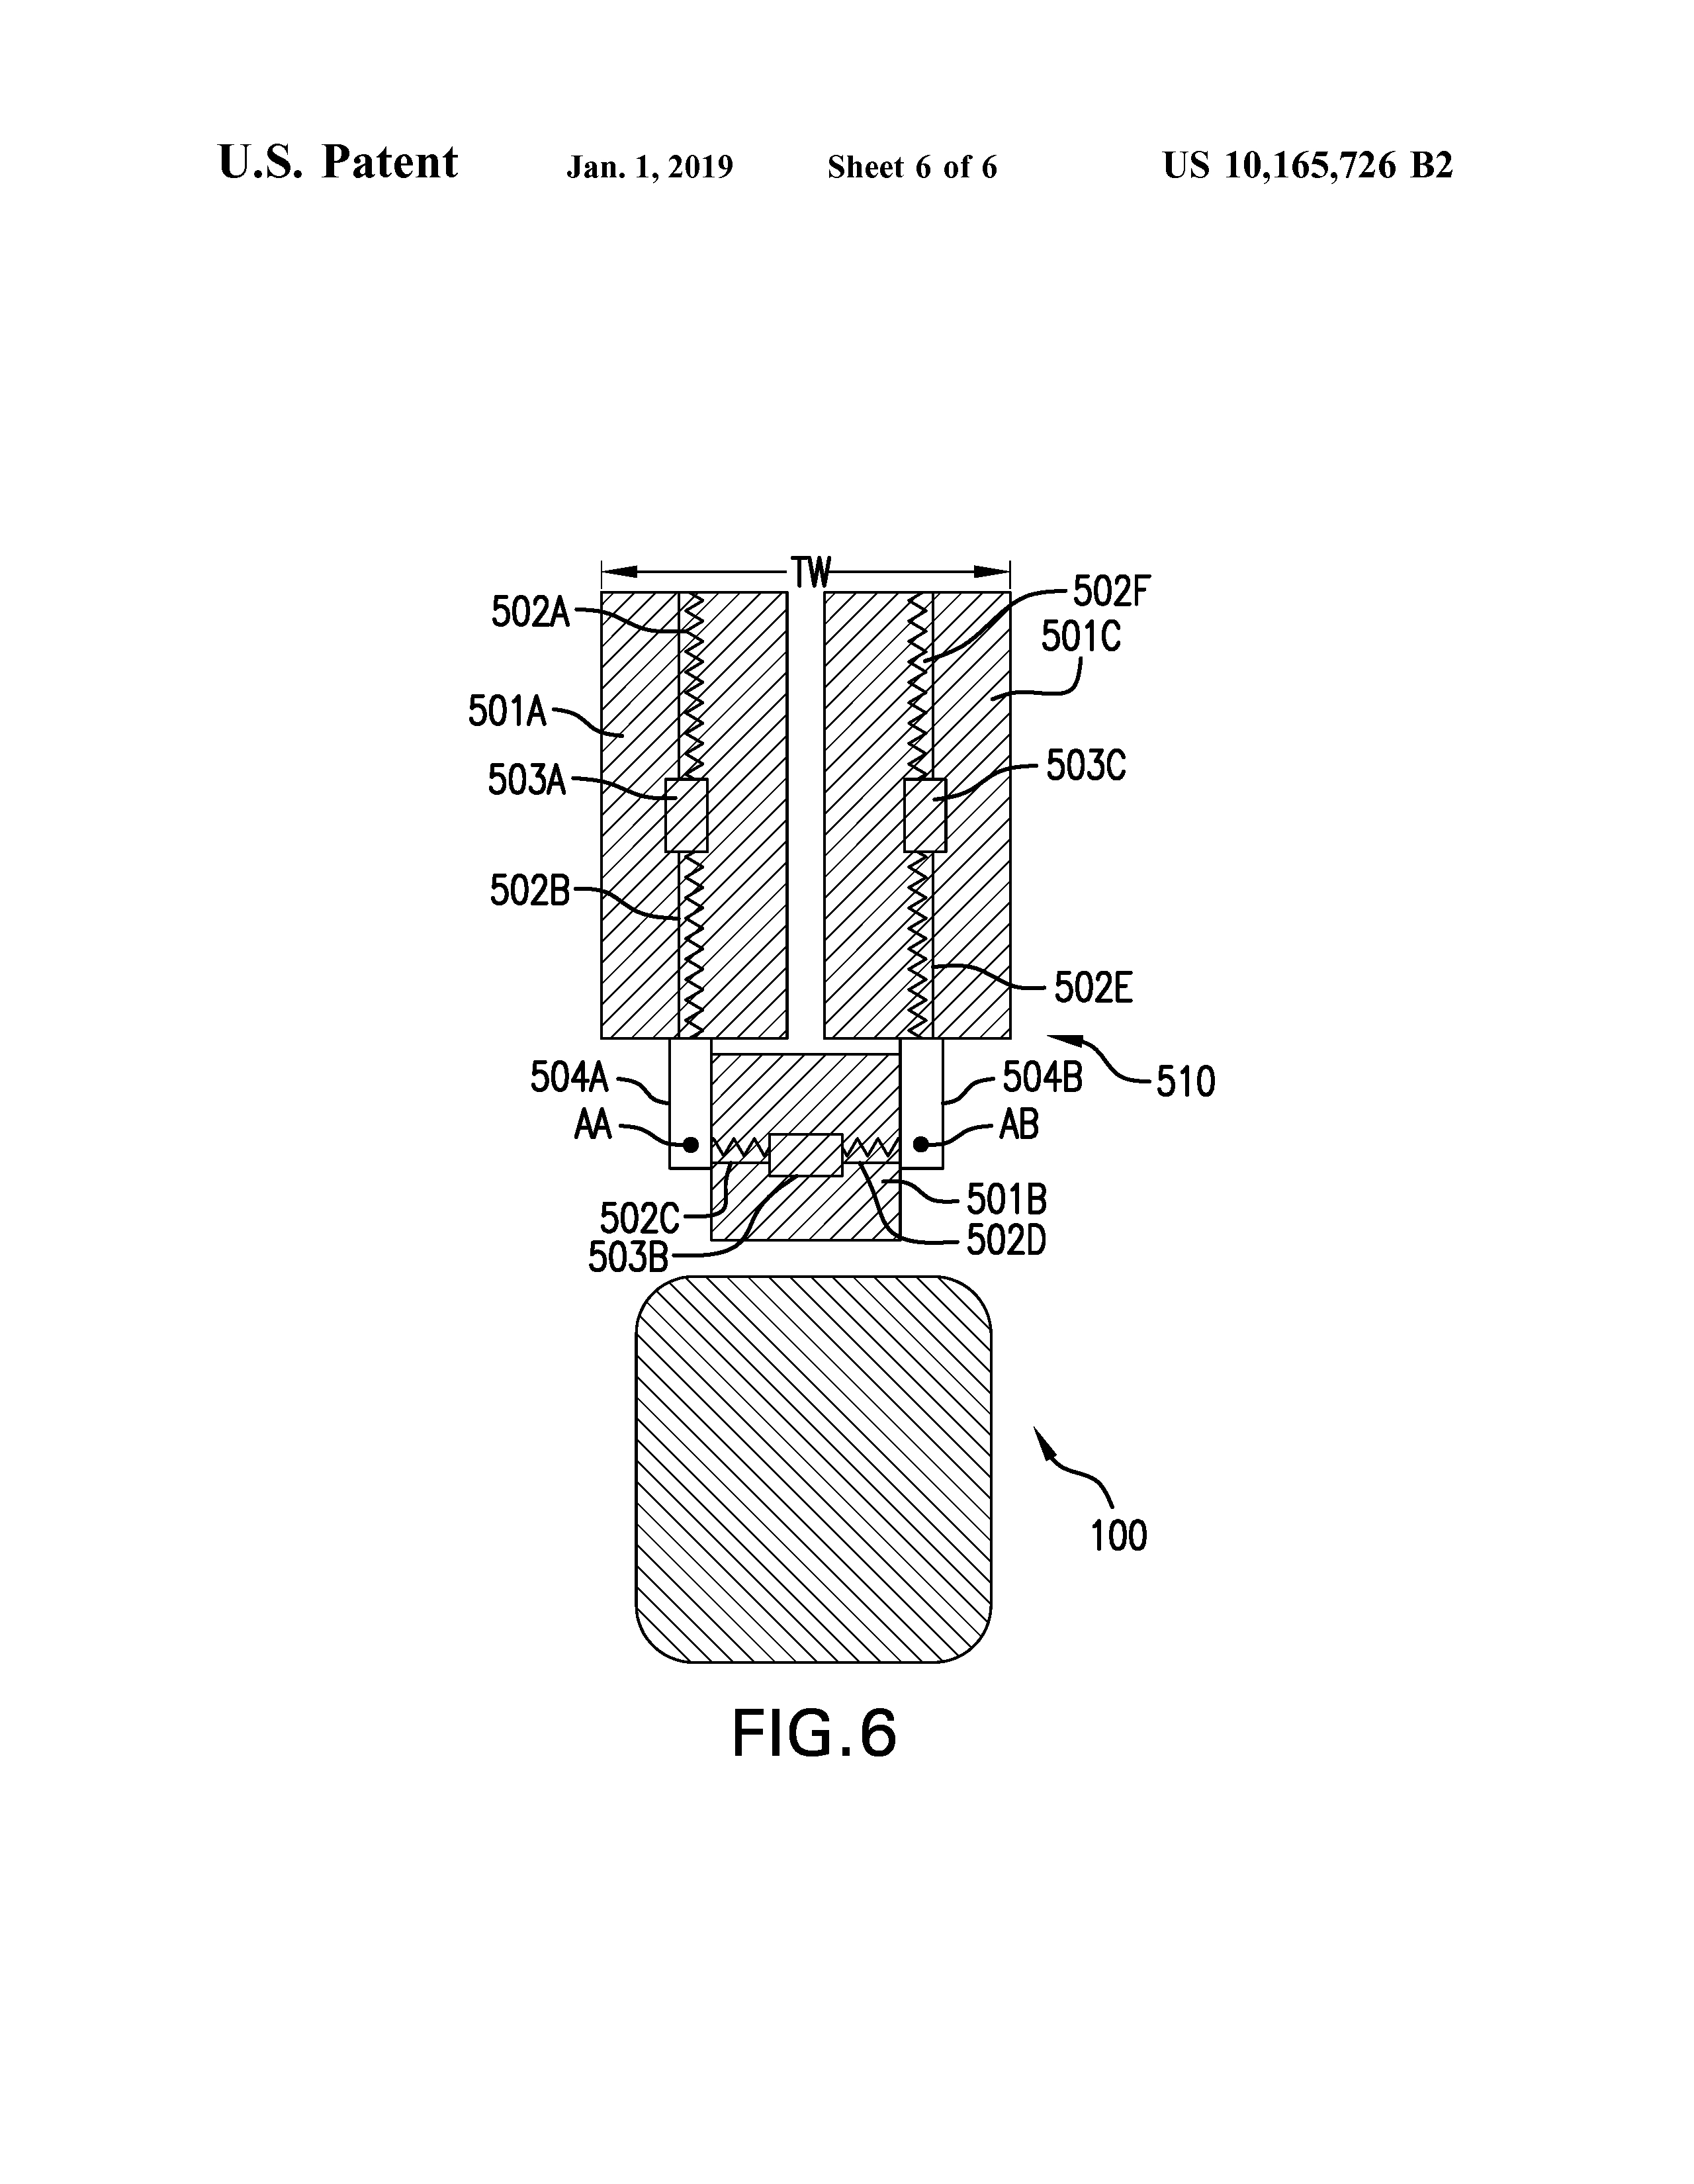patent image: (474, 535, 1237, 1781)
